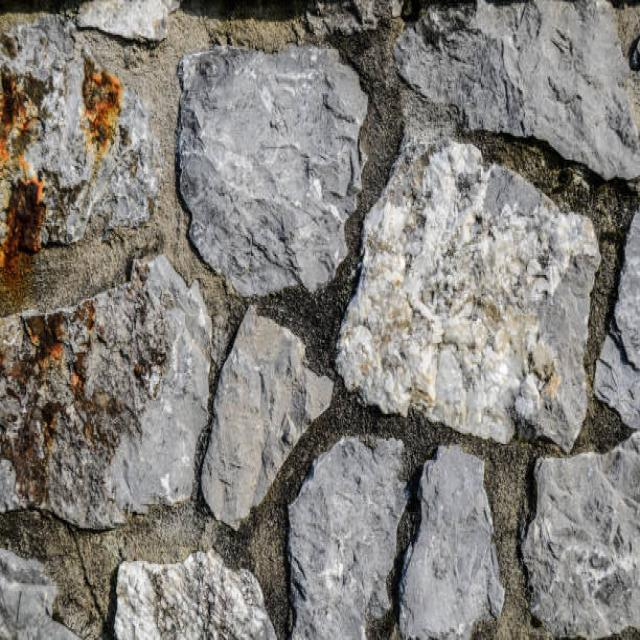Sedimentary: (343, 136, 609, 449), (1, 276, 217, 530), (172, 47, 368, 294), (387, 2, 640, 188), (194, 272, 330, 540), (286, 428, 404, 640), (525, 436, 638, 640), (397, 425, 501, 640), (100, 545, 282, 640)
